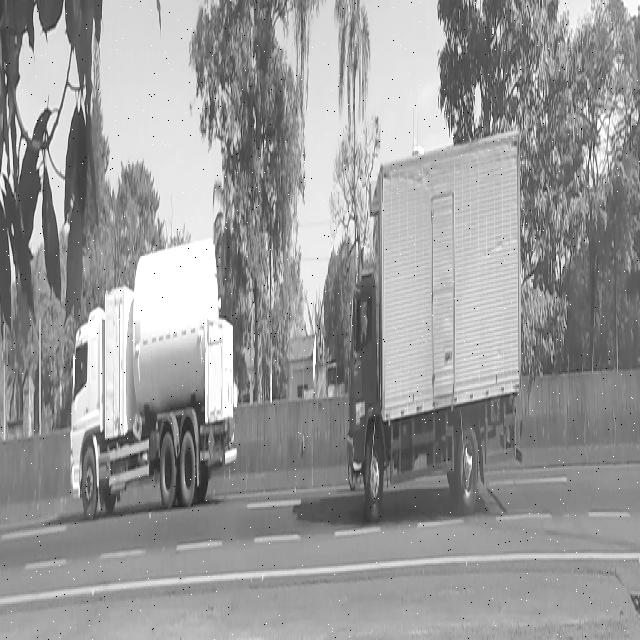-axle: (456, 422, 481, 513), (76, 434, 100, 525), (363, 438, 385, 530), (180, 427, 199, 528), (161, 424, 175, 511)
